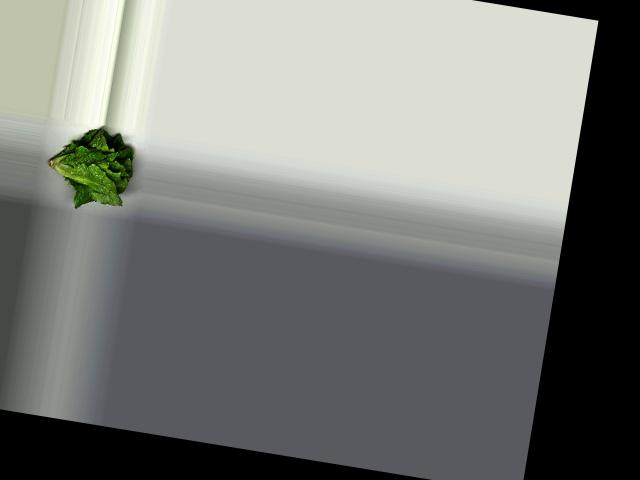lettuce: (39, 121, 143, 209)
